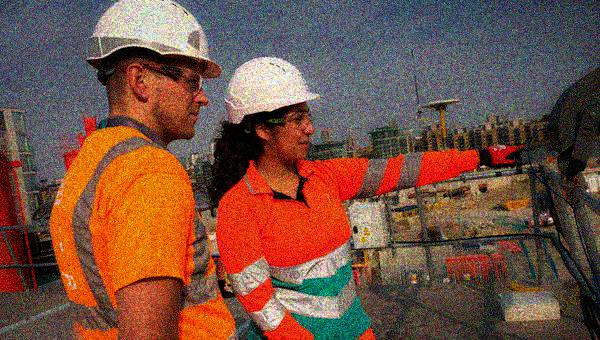helmet: (91, 1, 221, 141), (223, 55, 321, 160)
